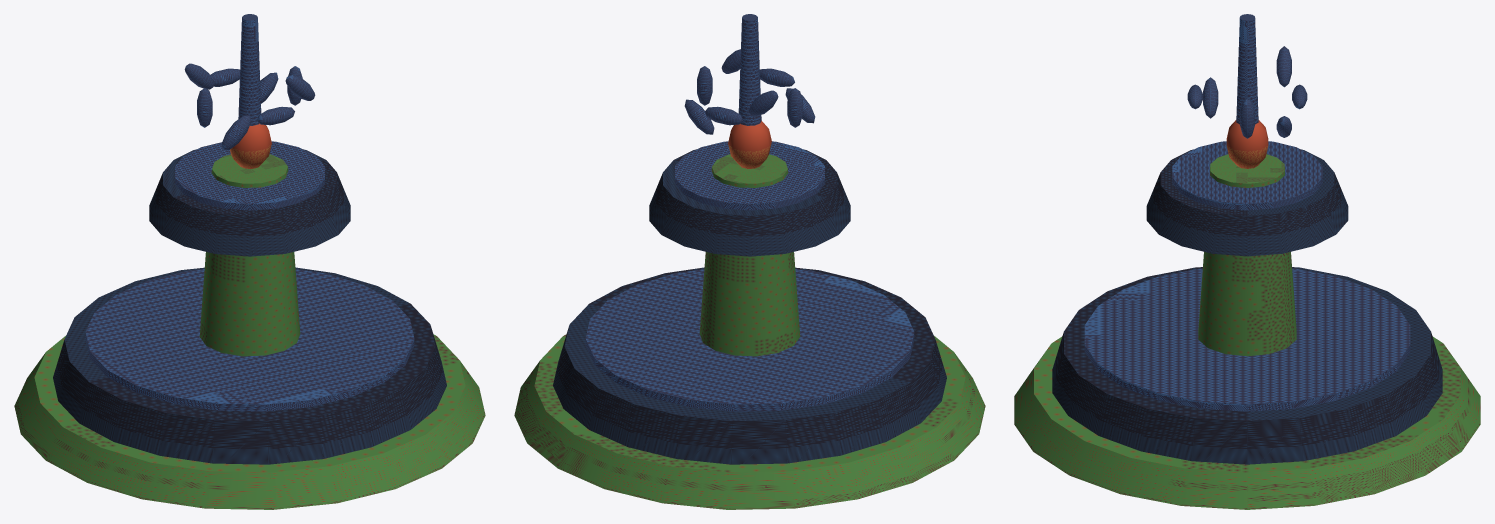
File: batiment-fontaine.glb
3 renders of one model, left to right at view 1: azimuth 30°, elevation 25°; view 2: azimuth 150°, elevation 25°; view 3: azimuth 270°, elevation 25°, orthographic.
Visible parts, largest first — view 1: LowerWater, Foundation, LowerBasin, CentralPillar, UpperBasin, UpperWater, MainJet, Finial, WaterDrop3, WaterDrop4; view 2: LowerWater, Foundation, LowerBasin, CentralPillar, UpperBasin, UpperWater, MainJet, Finial, WaterDrop7, WaterDrop4; view 3: LowerWater, Foundation, LowerBasin, CentralPillar, UpperBasin, UpperWater, MainJet, Finial, WaterDrop5, WaterDrop1.
Boxes of the visible parts, bbox=[...] form: LowerWater: bbox=[85, 269, 414, 411]; Foundation: bbox=[14, 334, 485, 509]; LowerBasin: bbox=[53, 267, 446, 464]; CentralPillar: bbox=[199, 154, 300, 356]; UpperBasin: bbox=[149, 149, 350, 256]; UpperWater: bbox=[175, 141, 324, 210]; MainJet: bbox=[238, 14, 261, 125]; Finial: bbox=[230, 123, 271, 168]; WaterDrop3: bbox=[221, 115, 251, 150]; WaterDrop4: bbox=[197, 88, 212, 127]; LowerWater: bbox=[585, 269, 914, 411]; Foundation: bbox=[514, 334, 985, 509]; LowerBasin: bbox=[553, 267, 946, 464]; CentralPillar: bbox=[699, 154, 800, 356]; UpperBasin: bbox=[649, 149, 850, 256]; UpperWater: bbox=[675, 141, 824, 210]; MainJet: bbox=[738, 14, 761, 125]; Finial: bbox=[728, 121, 771, 168]; WaterDrop7: bbox=[684, 99, 714, 134]; WaterDrop4: bbox=[787, 88, 802, 127]; LowerWater: bbox=[1084, 268, 1410, 411]; Foundation: bbox=[1014, 336, 1480, 509]; LowerBasin: bbox=[1052, 267, 1442, 464]; CentralPillar: bbox=[1198, 154, 1296, 356]; UpperBasin: bbox=[1146, 149, 1348, 256]; UpperWater: bbox=[1172, 141, 1322, 210]; MainJet: bbox=[1236, 14, 1258, 124]; Finial: bbox=[1226, 120, 1268, 168]; WaterDrop5: bbox=[1276, 46, 1291, 87]; WaterDrop1: bbox=[1203, 77, 1218, 118].
Size of the model in its own units: 4.67 by 4.3 by 4.63.
3 materials, 3 textured.
